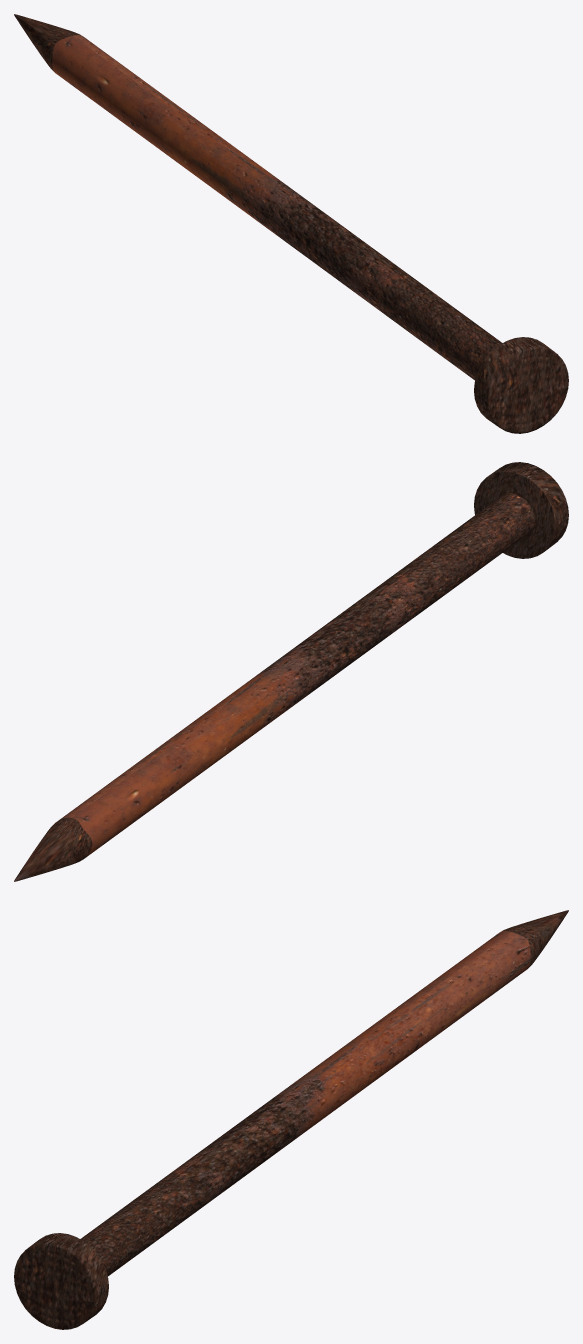
File: nail1.fbx
The picture shows the model from 3 angles, top to bottom: view 1: azimuth 30°, elevation 25°; view 2: azimuth 150°, elevation 25°; view 3: azimuth 330°, elevation 25°; orthographic projection.
Parts seen in each view (by area): view 1: 20241_Nail_(fastener)_V1; view 2: 20241_Nail_(fastener)_V1; view 3: 20241_Nail_(fastener)_V1.
Part boxes in pixels (x1,y1,x2,y2): 20241_Nail_(fastener)_V1: (14, 14, 568, 433); 20241_Nail_(fastener)_V1: (14, 462, 568, 881); 20241_Nail_(fastener)_V1: (14, 910, 568, 1329).
Size of the model in its own units: 39.4 by 39.39 by 429.
Materials: 1 (1 with a texture image).
